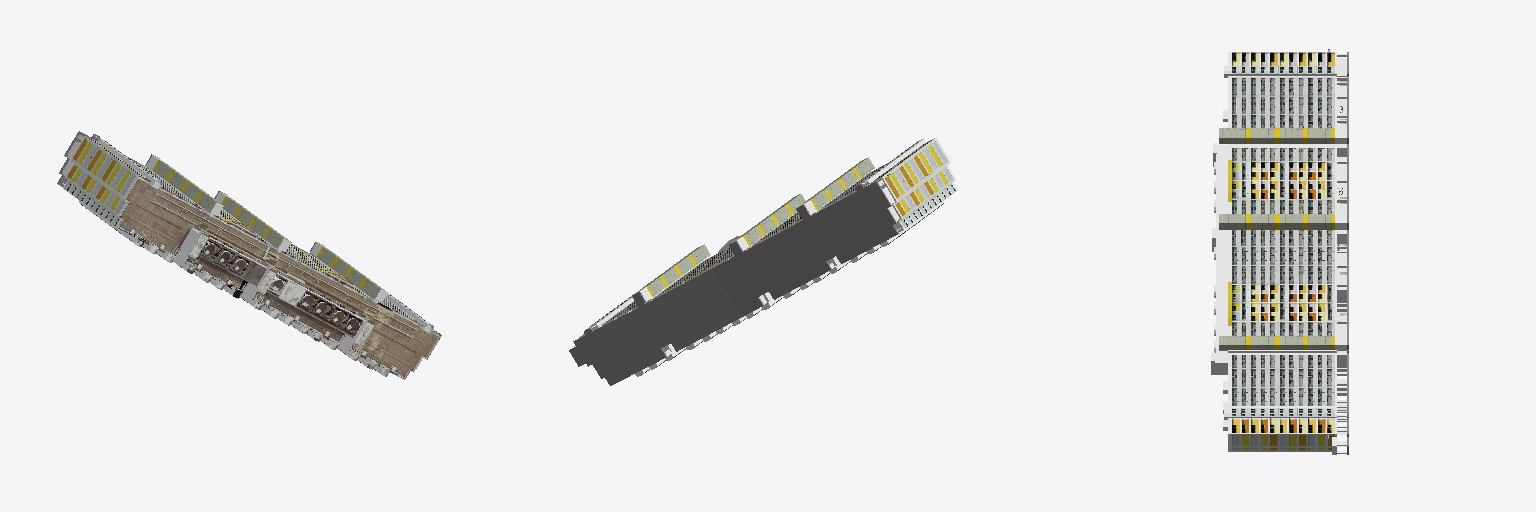
The picture shows the model from 3 angles: view 1: azimuth 30°, elevation 25°; view 2: azimuth 150°, elevation 25°; view 3: azimuth 270°, elevation 25°; orthographic projection.
Visible parts, largest first — view 1: polygon.014; view 2: polygon.014; view 3: polygon.014.
Boxes of the visible parts, x1=… form: polygon.014: x1=57, y1=131, x2=441, y2=379; polygon.014: x1=569, y1=138, x2=957, y2=385; polygon.014: x1=1211, y1=49, x2=1348, y2=454.
Bounding box in the file's own units: 107 × 83.88 × 38.78.
1 materials, 1 textured.